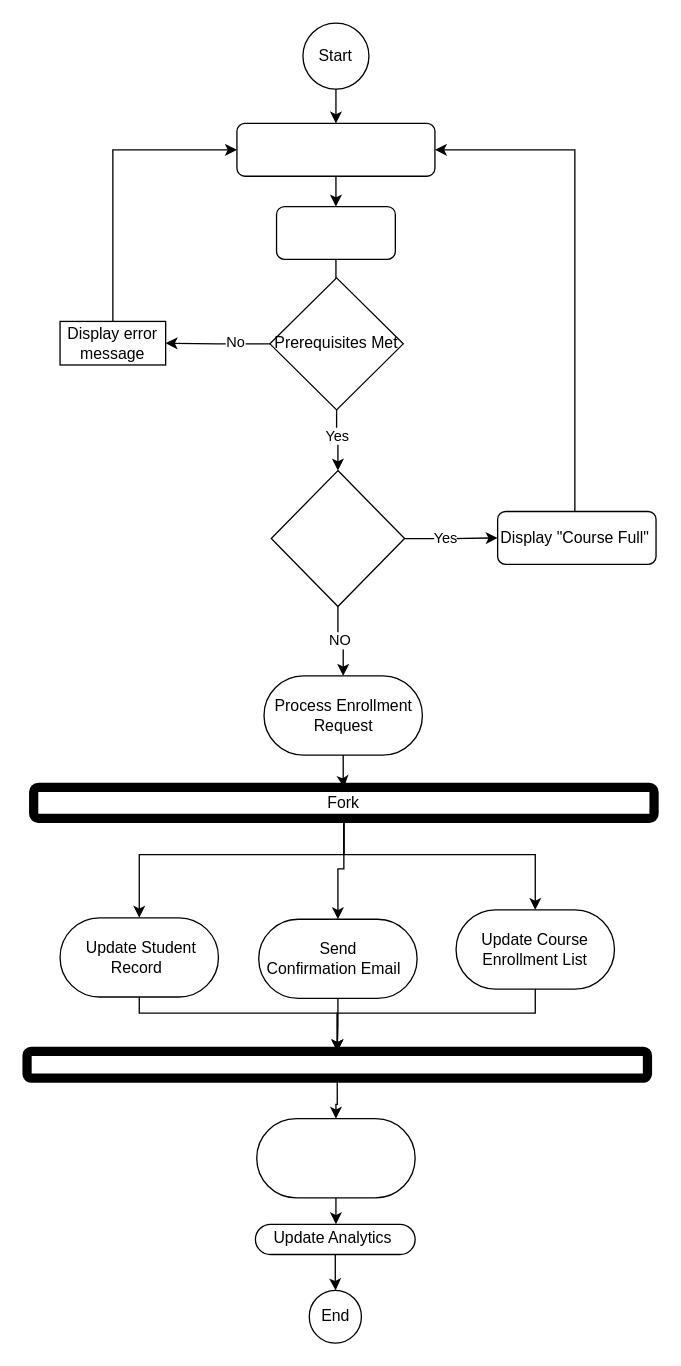
Some shapes in this 681 by 1366 pixel diagram are drawn without their labels. Here are the shapes that lost their labels. From the top down, the centre of each, then its label:
At [335,149]: "Browse Available Courses".
At [335,232]: "Select Course".
At [337,538]: "Enrollment Limit Reached?".
At [336,1064]: "join".
At [335,1157]: "Generate Enrollment Confirmation".
